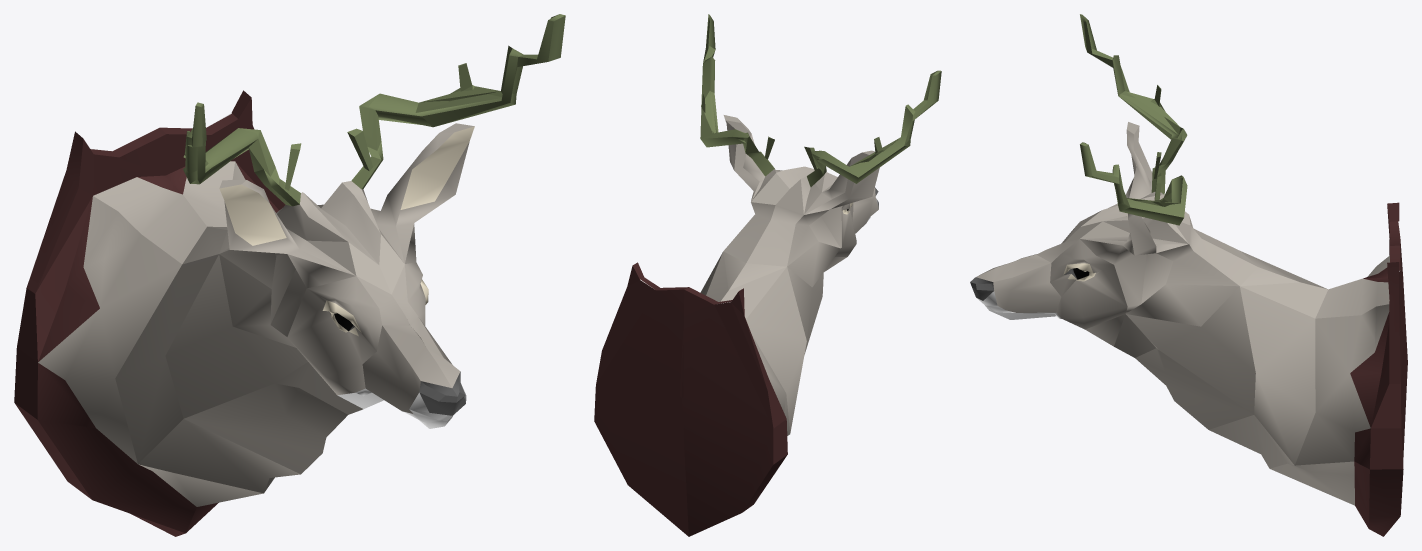
The model's file is BGMD_Deer.fbx.
3 views of the same model, side by side, from view 1: azimuth 30°, elevation 25°; view 2: azimuth 150°, elevation 25°; view 3: azimuth 270°, elevation 25° (orthographic). The views are drawn at different scales.
Visible parts, largest first — view 1: BGMD_Deer; view 2: BGMD_Deer; view 3: BGMD_Deer.
Part boxes in pixels (x1,y1,x2,y2): BGMD_Deer: (14, 14, 565, 536); BGMD_Deer: (594, 14, 941, 536); BGMD_Deer: (970, 14, 1407, 536).
Size of the model in its own units: 55.62 by 90.87 by 78.98.
